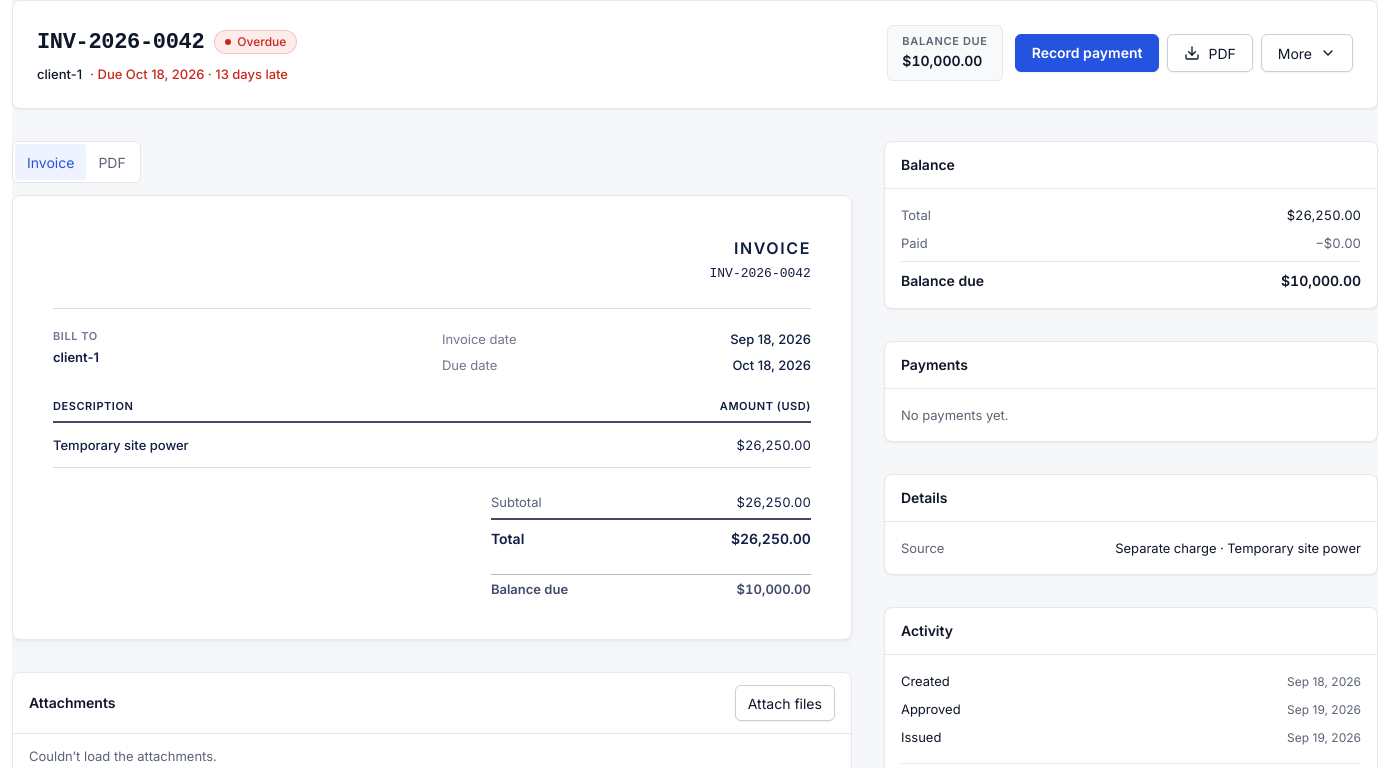
Test: InvoiceDetail — state-aware title and totals › shows the invoice number and "Balance due" once posted
expect the heading "INV-2026-0042" is shown: met, box [37,25,204,58]
expect the text "Balance due" next to "Record payment" is shown: met, box [902,34,988,48]
What coordinates should you click on to do the following:
click the button "More"
I would click on:
 (1307, 53)
Its box is [1261,34,1353,72].
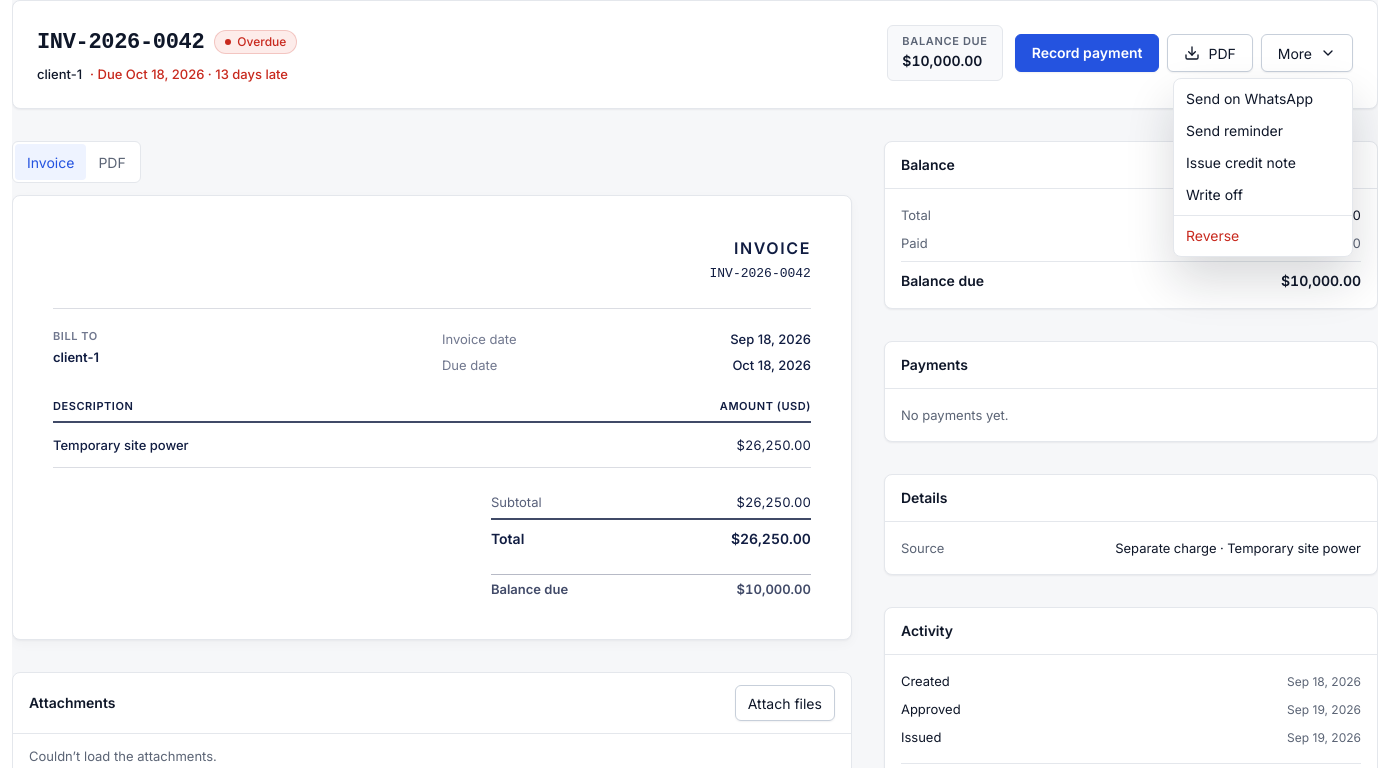
expect the menu item "Reverse" is shown: met, box [1186,227,1239,244]
expect the menu item "Issue credit note" is shown: met, box [1186,154,1296,171]
expect the menu item "Write off" is shown: met, box [1186,186,1243,203]
